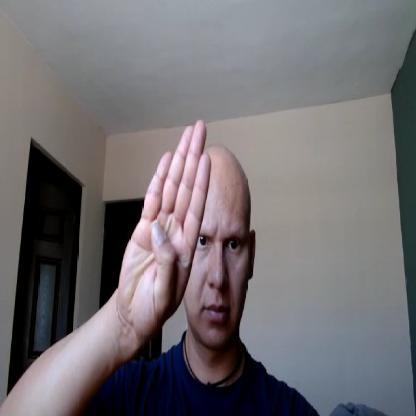B: (120, 120, 212, 338)
